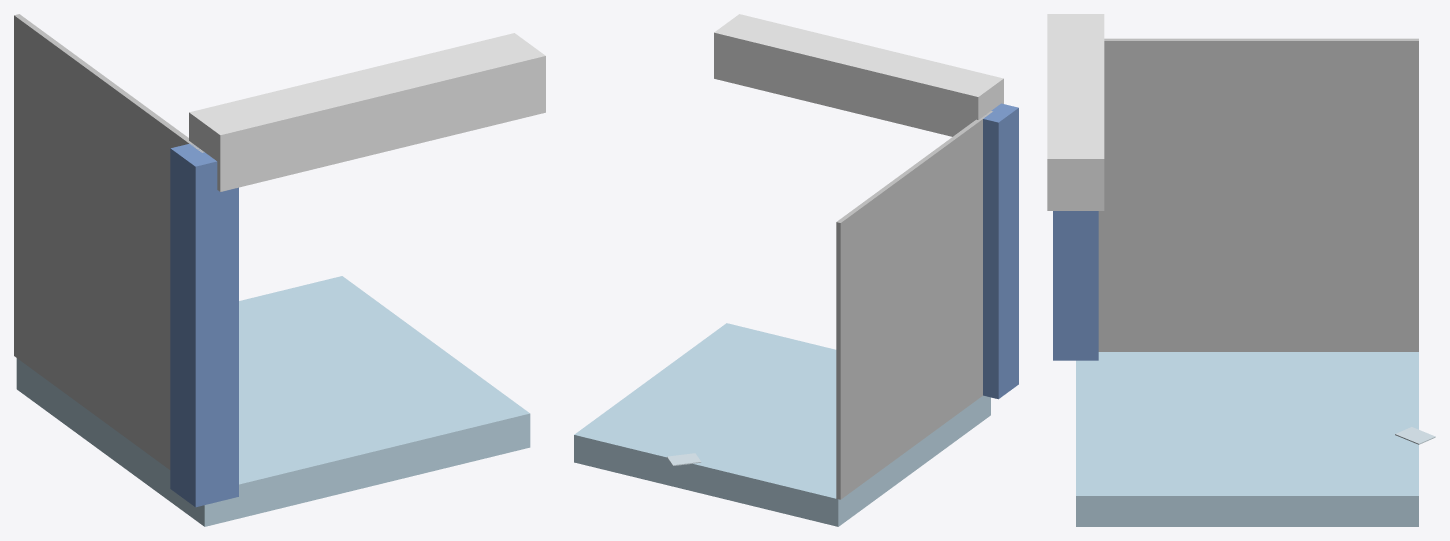
Rendered from mt3x3dünnewand.glb.
3 renders of one model, left to right at view 1: azimuth 30°, elevation 25°; view 2: azimuth 150°, elevation 25°; view 3: azimuth 270°, elevation 25°, orthographic. The views are drawn at different scales.
Visible parts, largest first — view 1: Seitenwand kerzengerade 2mx2,8mx0,2m, Bodenplatte 2,2mx2,2mx0,3m, Querbalken 0,5x0,5x2,0m, Pfeiler_Wandbegrenzung 0,4x0,4x2,8; view 2: Seitenwand kerzengerade 2mx2,8mx0,2m, Bodenplatte 2,2mx2,2mx0,3m, Querbalken 0,5x0,5x2,0m, Pfeiler_Wandbegrenzung 0,4x0,4x2,8; view 3: Seitenwand kerzengerade 2mx2,8mx0,2m, Bodenplatte 2,2mx2,2mx0,3m, Querbalken 0,5x0,5x2,0m, Pfeiler_Wandbegrenzung 0,4x0,4x2,8.
Part boxes in pixels (x1,y1,x2,y2): Seitenwand kerzengerade 2mx2,8mx0,2m: (14,14,204,469); Bodenplatte 2,2mx2,2mx0,3m: (16,276,530,526); Querbalken 0,5x0,5x2,0m: (189,33,545,191); Pfeiler_Wandbegrenzung 0,4x0,4x2,8: (170,143,238,507); Seitenwand kerzengerade 2mx2,8mx0,2m: (836,111,992,499); Bodenplatte 2,2mx2,2mx0,3m: (574,323,990,526); Querbalken 0,5x0,5x2,0m: (714,14,1003,136); Pfeiler_Wandbegrenzung 0,4x0,4x2,8: (983,103,1018,399); Seitenwand kerzengerade 2mx2,8mx0,2m: (1098,38,1418,351); Bodenplatte 2,2mx2,2mx0,3m: (1076,352,1418,526); Querbalken 0,5x0,5x2,0m: (1047,14,1104,210); Pfeiler_Wandbegrenzung 0,4x0,4x2,8: (1053,211,1098,360).
Size of the model in its own units: 3.2 by 3.55 by 3.4.
